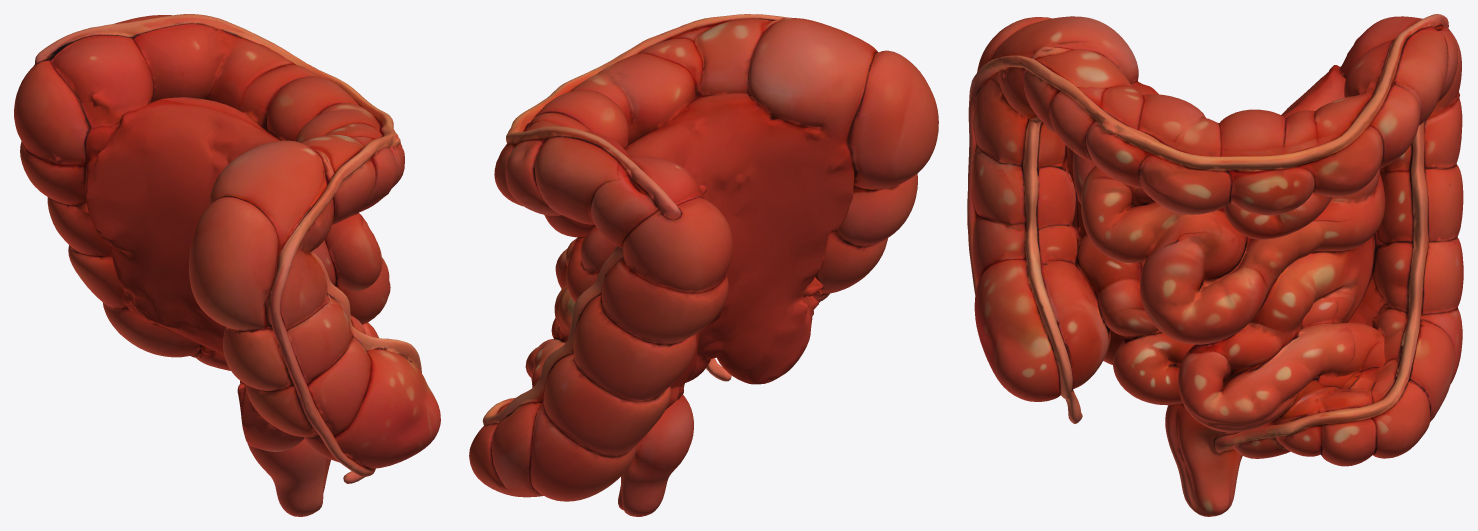
3 views of the same model, side by side, from view 1: azimuth 30°, elevation 25°; view 2: azimuth 150°, elevation 25°; view 3: azimuth 270°, elevation 25° (orthographic). The views are drawn at different scales.
Parts seen in each view (by area): view 1: tripo_node_805db10c-d432-40cb-8d3a-d021129a12ca; view 2: tripo_node_805db10c-d432-40cb-8d3a-d021129a12ca; view 3: tripo_node_805db10c-d432-40cb-8d3a-d021129a12ca.
Part boxes in pixels (x1=…): tripo_node_805db10c-d432-40cb-8d3a-d021129a12ca: x1=14, y1=14, x2=440, y2=516; tripo_node_805db10c-d432-40cb-8d3a-d021129a12ca: x1=469, y1=14, x2=938, y2=516; tripo_node_805db10c-d432-40cb-8d3a-d021129a12ca: x1=967, y1=14, x2=1463, y2=516.
Size of the model in its own units: 0.6588 by 1 by 0.9941.
1 material, 1 textured.
